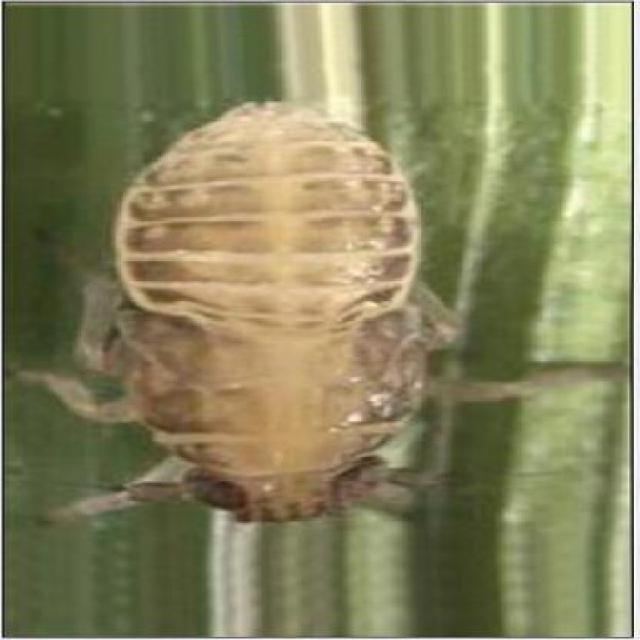brown-planthopper: (103, 98, 443, 524)
